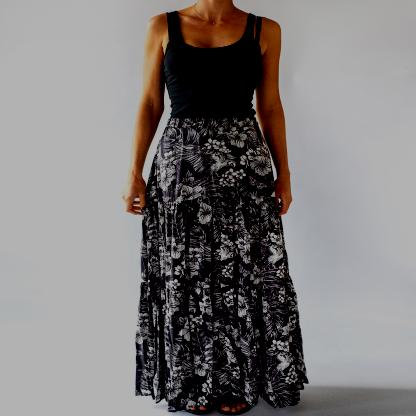dress: (139, 115, 308, 411)
jacket: (165, 11, 263, 120)
